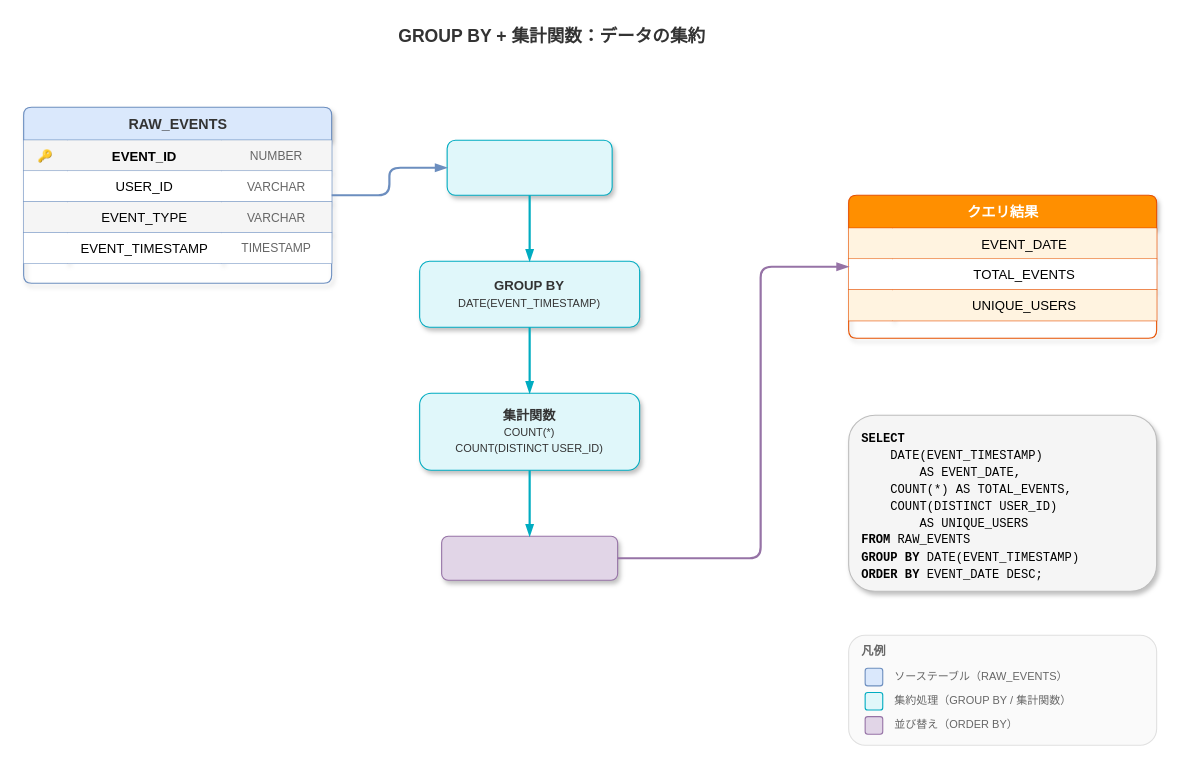
This 1183x765 diagram has some shape labels left out. The centre of each missing label's shape, as x and y in pixels:
"DATE() 関数適用" goes at (x=530, y=169).
"ORDER BY EVENT_DATE DESC" goes at (x=530, y=559).
